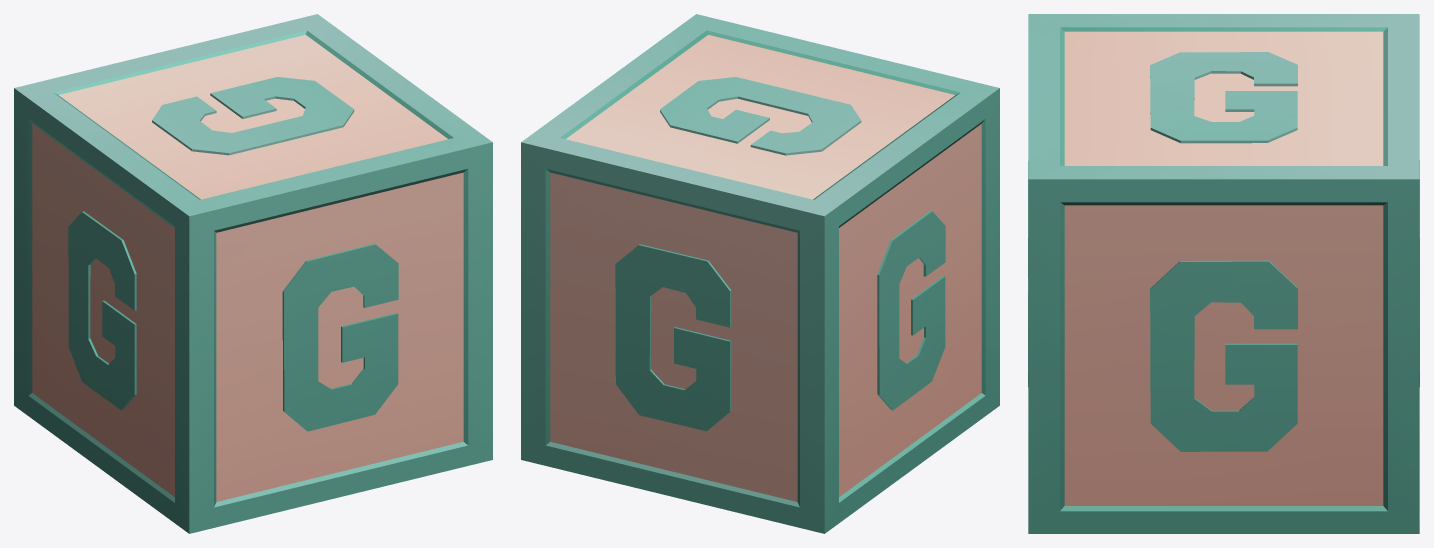
File: Doll_OB_Blocks_007.FBX
3 views of the same model, side by side, from view 1: azimuth 30°, elevation 25°; view 2: azimuth 150°, elevation 25°; view 3: azimuth 270°, elevation 25° (orthographic). The views are drawn at different scales.
Parts seen in each view (by area): view 1: Doll_OB_Blocks_007; view 2: Doll_OB_Blocks_007; view 3: Doll_OB_Blocks_007.
Boxes of the visible parts, bbox=[...] form: Doll_OB_Blocks_007: bbox=[14, 14, 492, 533]; Doll_OB_Blocks_007: bbox=[521, 14, 999, 533]; Doll_OB_Blocks_007: bbox=[1028, 14, 1419, 533].
Bounding box in the file's own units: 20.68 × 20.67 × 20.68.
